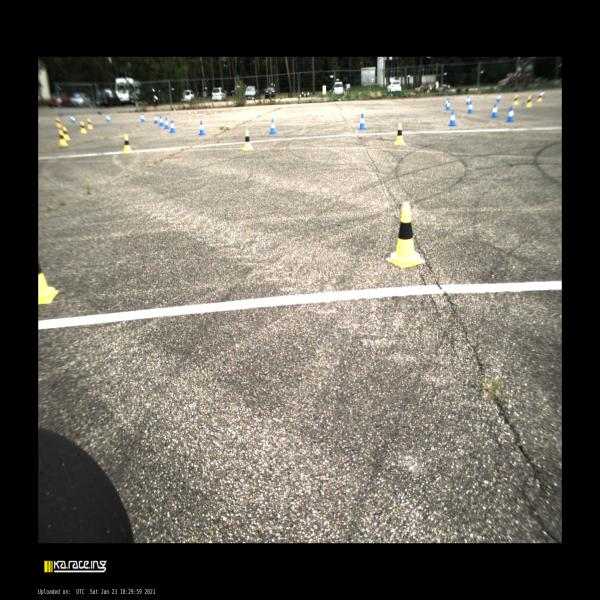blue_cone: (448, 110, 456, 126), (506, 107, 514, 122), (198, 121, 206, 135), (359, 114, 366, 130), (491, 104, 498, 118), (270, 119, 276, 134), (170, 120, 176, 133), (164, 117, 170, 129), (140, 113, 146, 123), (468, 102, 473, 113), (154, 114, 159, 124), (159, 116, 164, 126), (496, 93, 501, 102), (106, 114, 111, 122), (466, 96, 470, 105), (446, 101, 450, 110), (70, 116, 76, 122), (541, 90, 545, 97), (445, 98, 448, 107)
yellow_cone: (386, 202, 425, 268), (38, 262, 59, 304), (394, 123, 406, 145), (242, 130, 254, 151), (58, 130, 68, 146), (124, 134, 132, 153), (63, 127, 71, 140), (80, 121, 86, 134), (526, 95, 532, 107), (537, 92, 543, 102), (514, 94, 519, 105), (56, 118, 62, 127), (88, 119, 93, 129)
